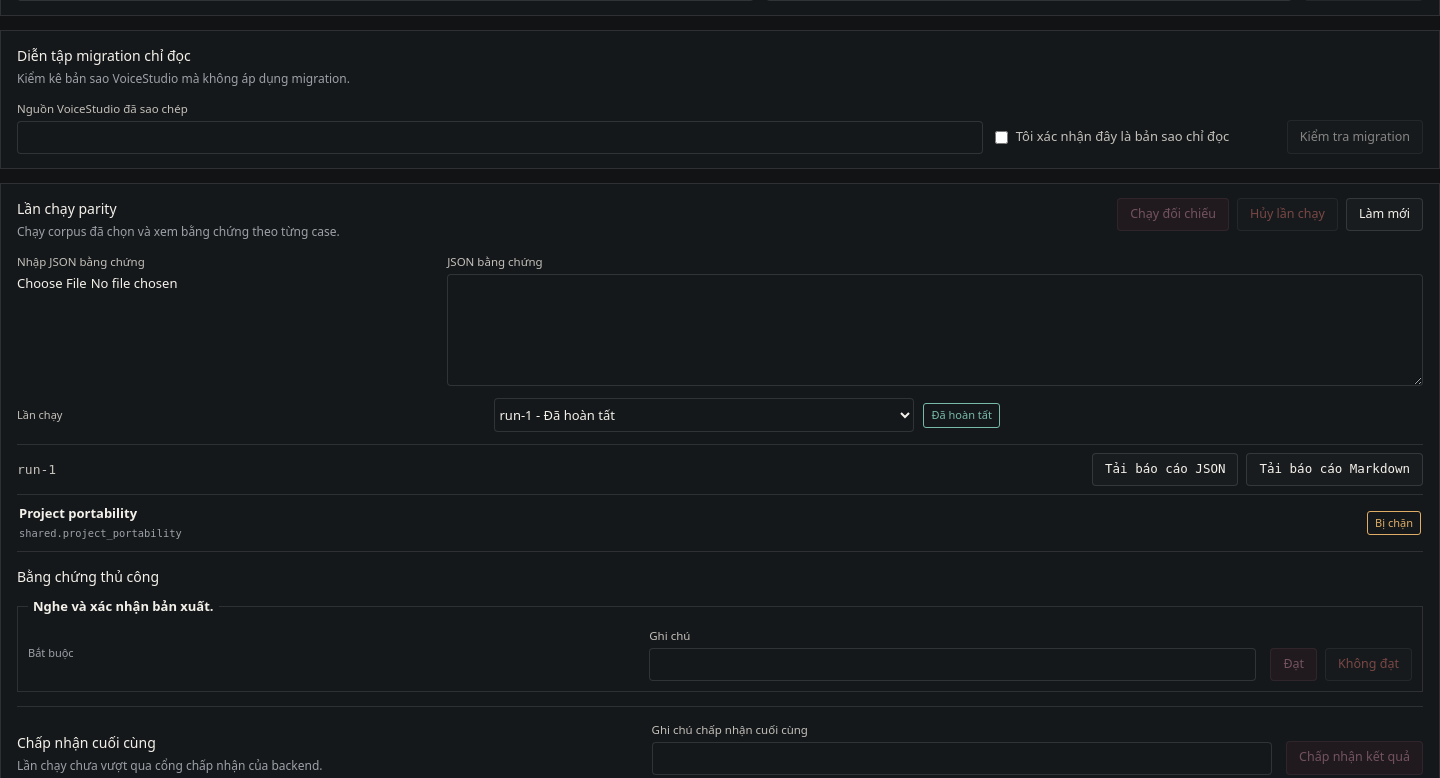
ParityPage › records a Không đạt manual answer with its note
This screenshot has width=1440, height=778.
(page scrolled)
Type "Đã nghe kỹ." into the field labelled "Ghi chú". click: (953, 664)
box: top-left (649, 648), bottom-right (1256, 681)
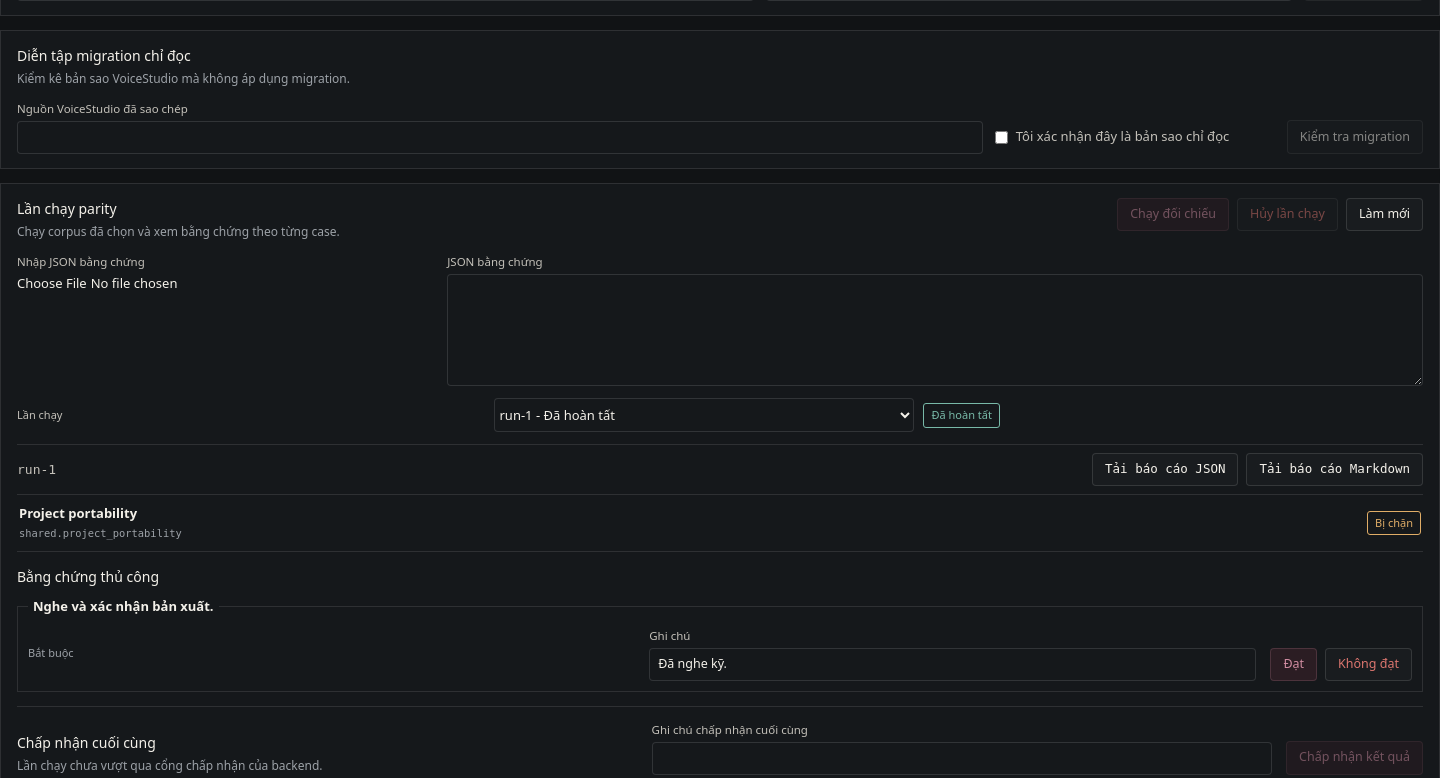
Click the button "Không đạt". click: click(1369, 664)
box: top-left (1325, 648), bottom-right (1412, 681)
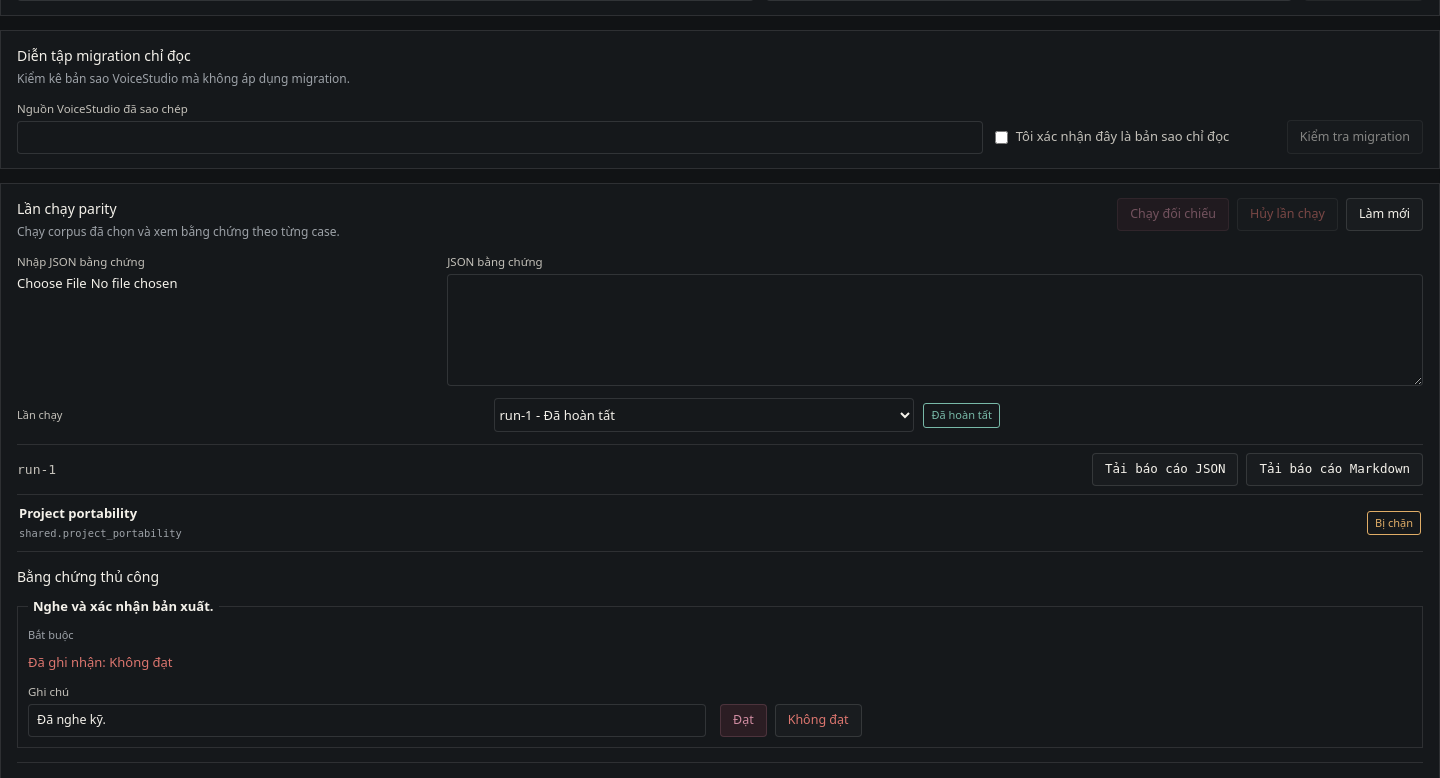
Expected: the text "Đã ghi nhận: Không đạt" is shown, top-left (28, 653), bottom-right (173, 671)
